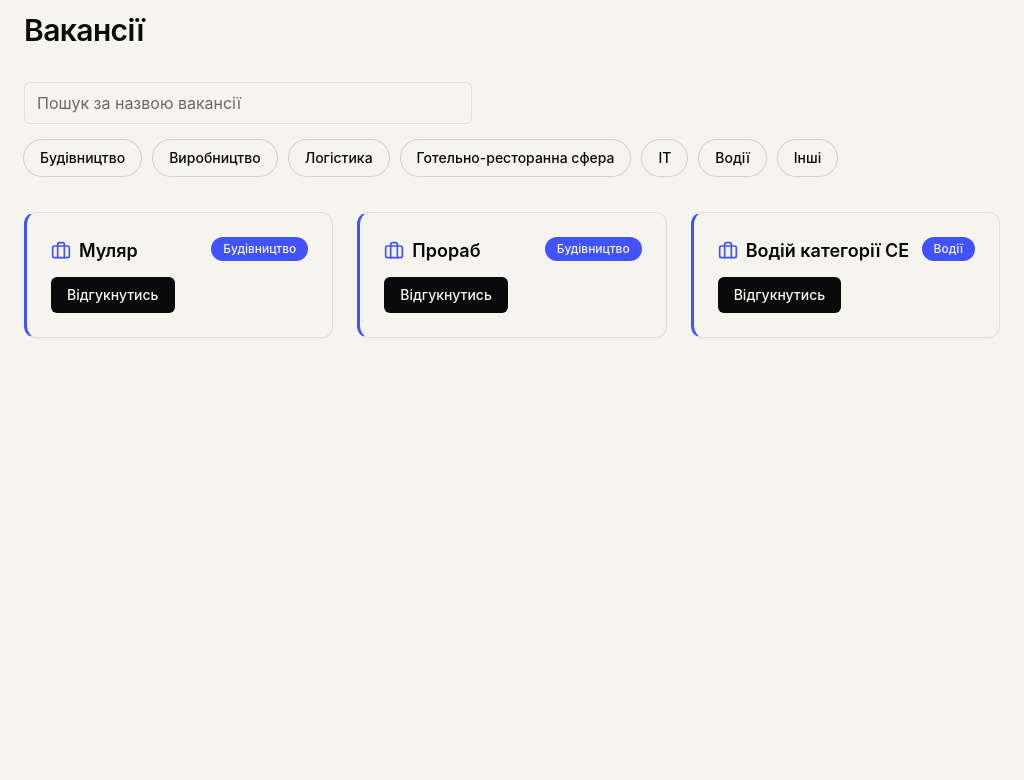
Scenario: vacancy list expand › opens one form at a time and closes the previous one
Check: the heading "Муляр" is shown, box top-left (79, 236), bottom-right (138, 264)
Check: the text "Відгук на вакансію:" is not shown
Click the button "Відгукнутись" below "Муляр" at (113, 294), box top-left (51, 276), bottom-right (175, 312)
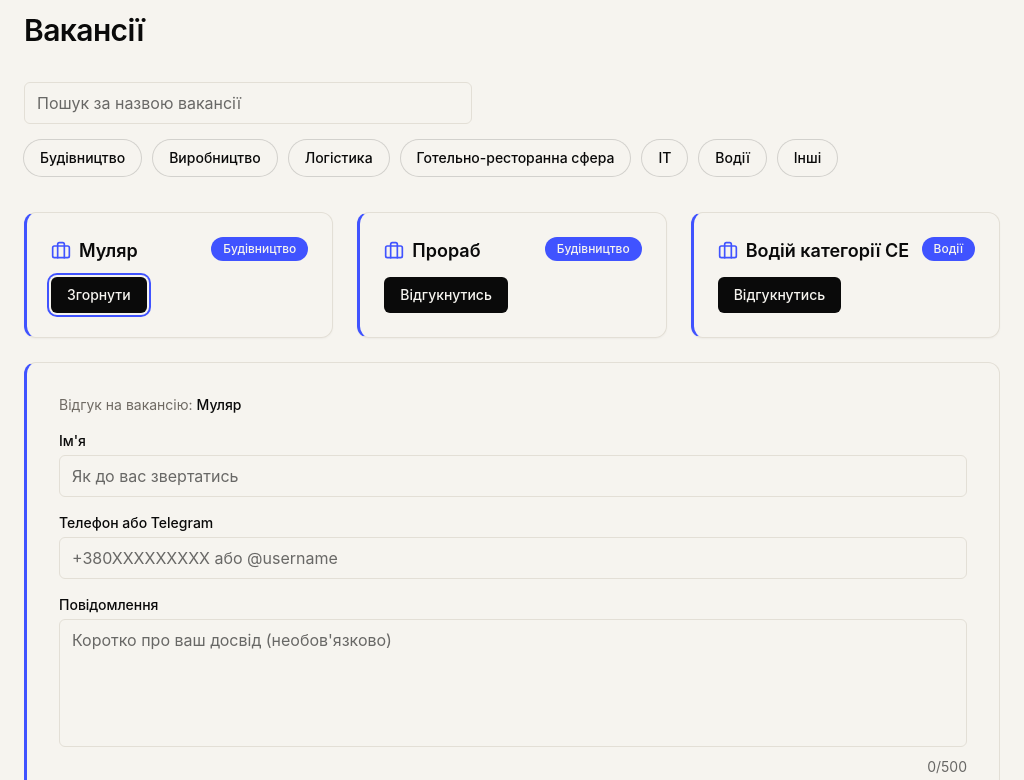
Check: the number of fields labelled "Ім'я" is 1, box top-left (59, 454), bottom-right (967, 496)
Check: the text "Муляр" is shown, box top-left (196, 396), bottom-right (242, 412)
Click the button "Відгукнутись" below "Прораб" at (446, 294), box top-left (384, 276), bottom-right (508, 312)
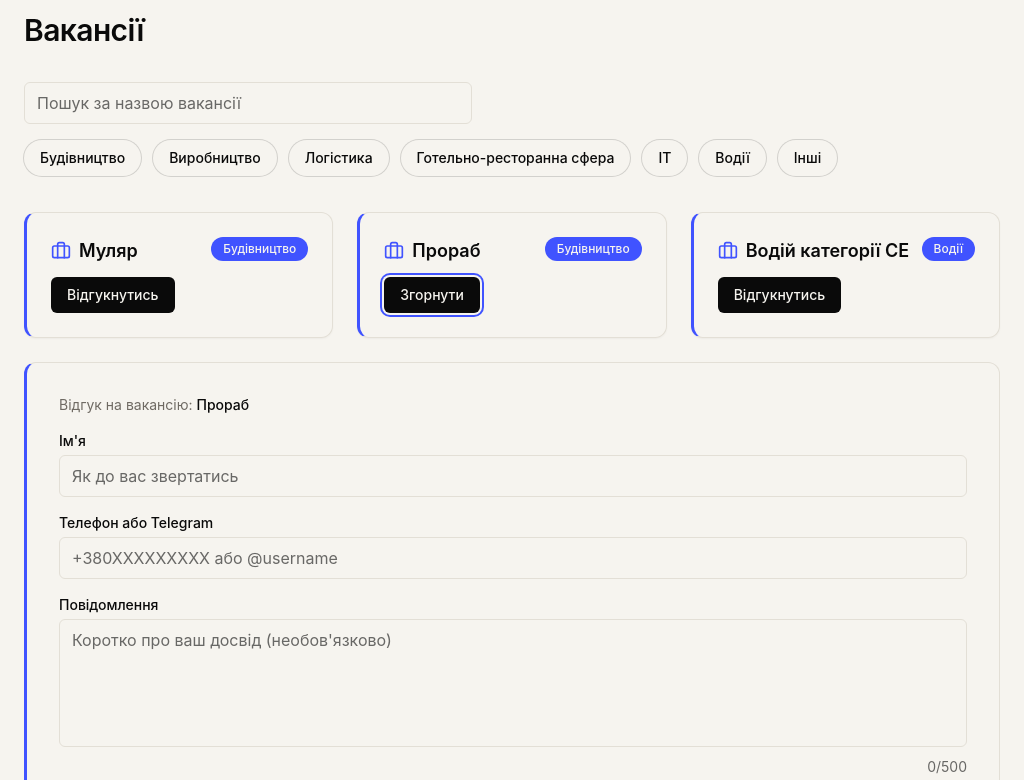
Check: the number of fields labelled "Ім'я" is 1, box top-left (59, 454), bottom-right (967, 496)
Check: the text "Прораб" is shown, box top-left (196, 396), bottom-right (249, 412)
